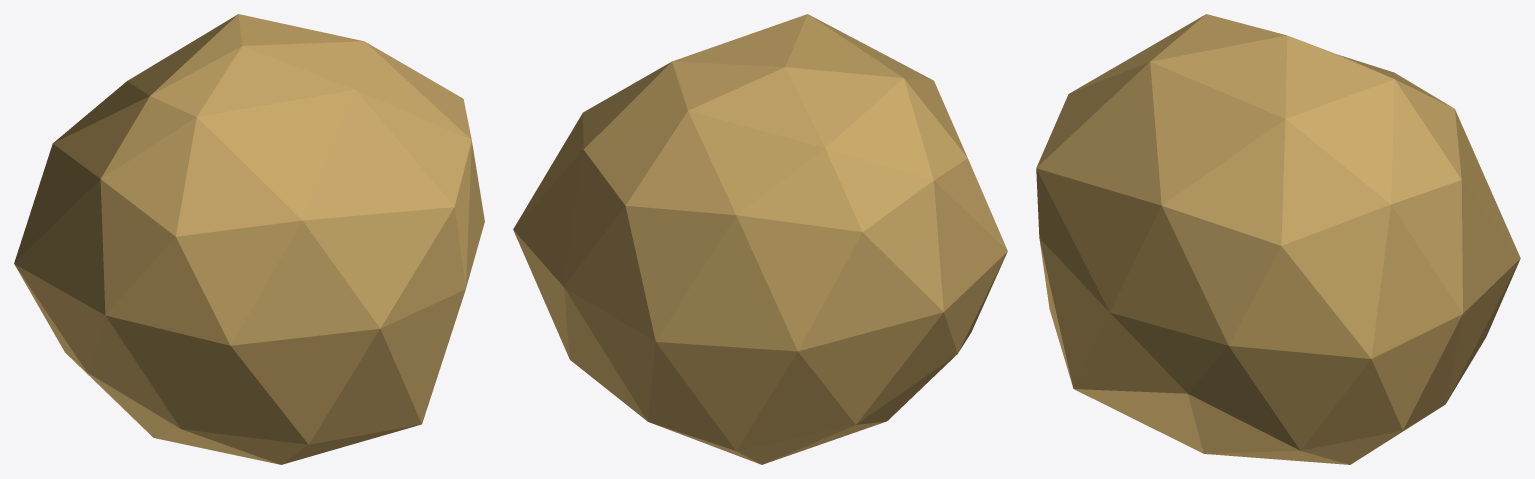
Rendered from piedra.fbx.
3 views of the same model, side by side, from view 1: azimuth 30°, elevation 25°; view 2: azimuth 150°, elevation 25°; view 3: azimuth 270°, elevation 25° (orthographic). The views are drawn at different scales.
Parts seen in each view (by area): view 1: Icosphere; view 2: Icosphere; view 3: Icosphere.
Part boxes in pixels (<box>): Icosphere: <box>14,14,484,464</box>; Icosphere: <box>513,14,1007,464</box>; Icosphere: <box>1036,14,1520,464</box>.
Size of the model in its own units: 202 by 166 by 189.
